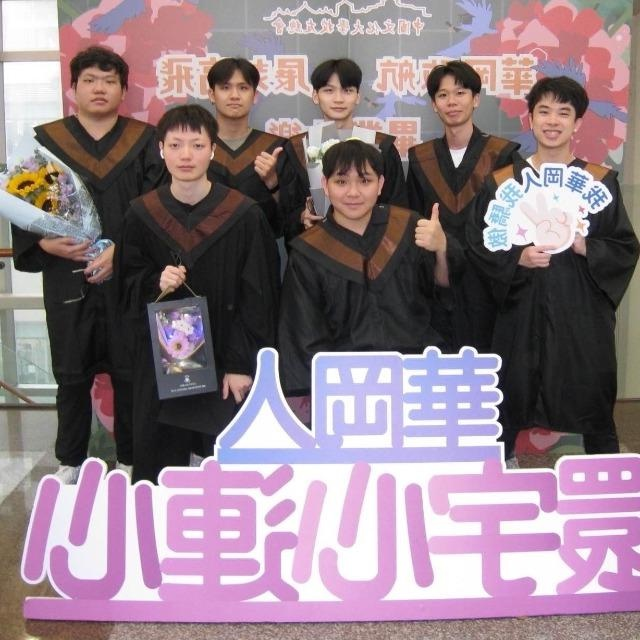Sin_Casco_Mascarrilla: (320, 140, 384, 220), (158, 104, 218, 184), (521, 77, 587, 147), (71, 45, 131, 115), (425, 58, 483, 127), (307, 57, 363, 120), (206, 57, 259, 120)
